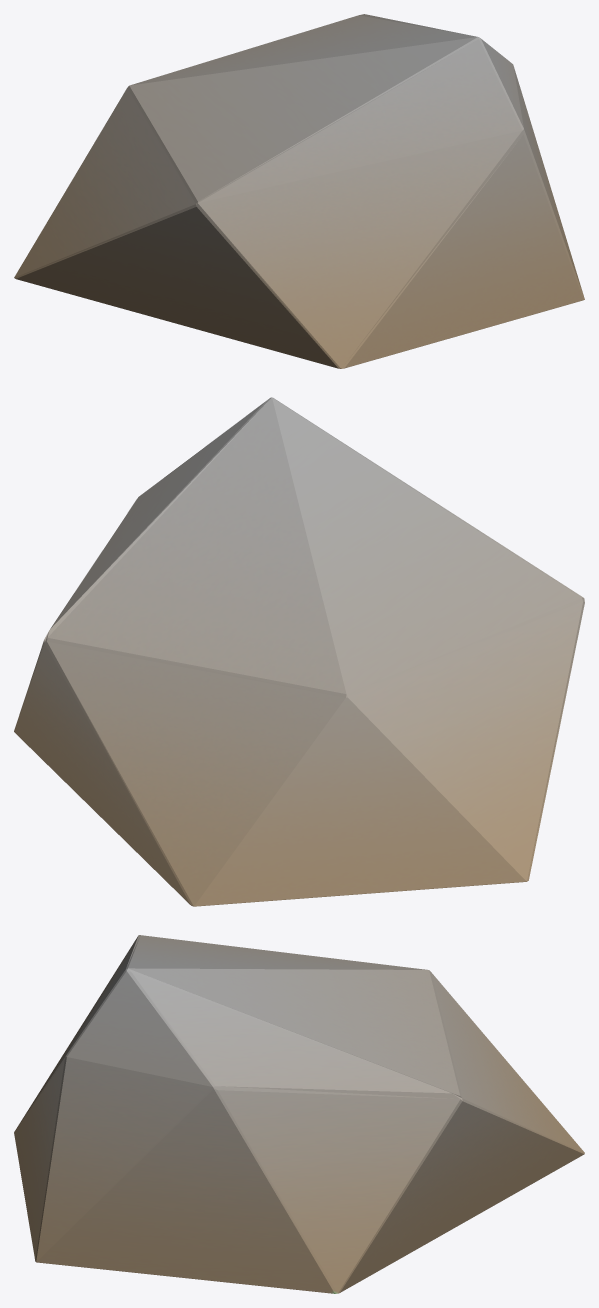
File: Rock 2.fbx
The picture shows the model from 3 angles, top to bottom: view 1: azimuth 30°, elevation 25°; view 2: azimuth 150°, elevation 25°; view 3: azimuth 270°, elevation 25°; orthographic projection. The views are drawn at different scales.
Visible parts, largest first — view 1: Rock002; view 2: Rock002; view 3: Rock002.
Boxes of the visible parts, box(x1,y1,x2,y2) form: Rock002: box(14, 14, 584, 368); Rock002: box(14, 397, 584, 906); Rock002: box(14, 935, 584, 1293).
Bounding box in the file's own units: 8.5 × 4.29 × 8.5.
Materials: 1 (1 with a texture image).
